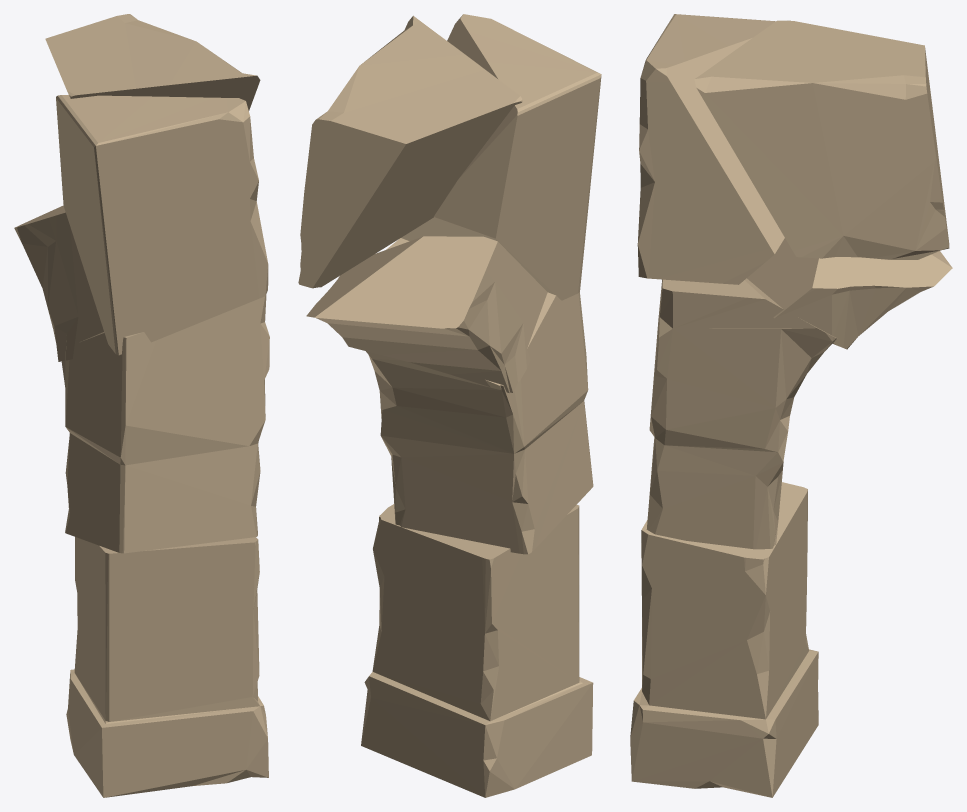
Rendered from SM_stone_debris_04.fbx.
3 views of the same model, side by side, from view 1: azimuth 30°, elevation 25°; view 2: azimuth 150°, elevation 25°; view 3: azimuth 270°, elevation 25° (orthographic). The views are drawn at different scales.
Visible parts, largest first — view 1: stone_debris_04; view 2: stone_debris_04; view 3: stone_debris_04.
Part boxes in pixels (x1,y1,x2,y2): stone_debris_04: (14,14,269,797); stone_debris_04: (298,14,601,797); stone_debris_04: (630,14,952,797).
Bounding box in the file's own units: 237 × 829 × 341.
